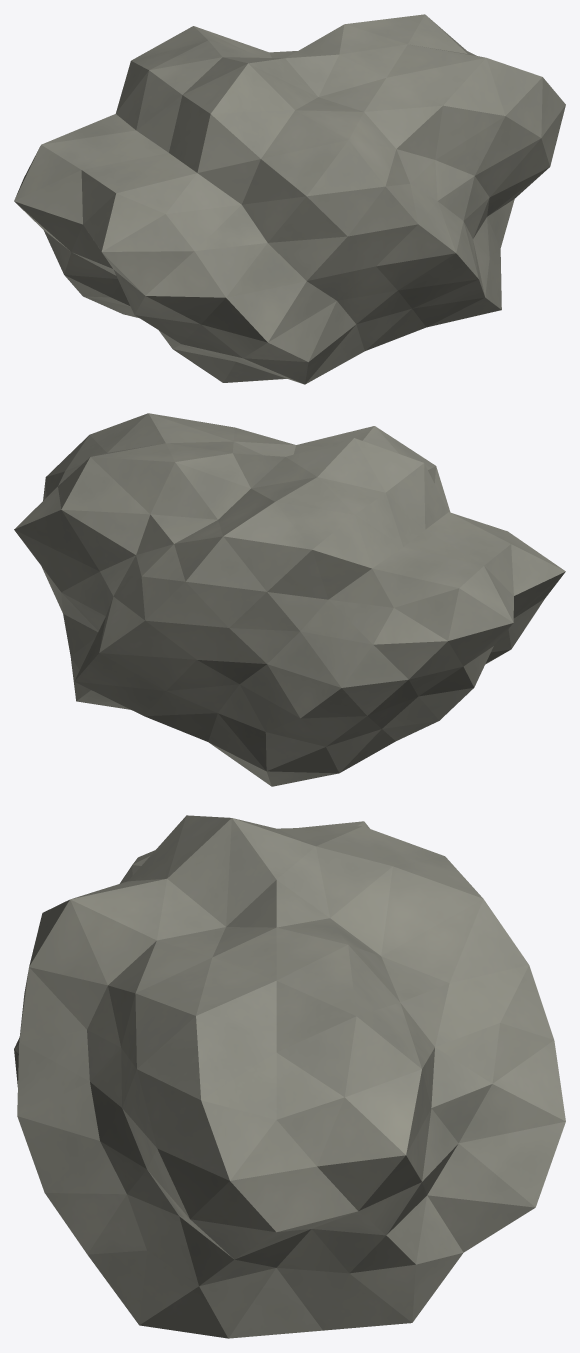
File: GF2_Boulder_C.fbx
3 views of the same model, one above another, from view 1: azimuth 30°, elevation 25°; view 2: azimuth 150°, elevation 25°; view 3: azimuth 270°, elevation 25° (orthographic). The views are drawn at different scales.
Parts seen in each view (by area): view 1: GF2_Boulder_C.001; view 2: GF2_Boulder_C.001; view 3: GF2_Boulder_C.001.
Boxes of the visible parts, x1,y1,x2,y2 form: GF2_Boulder_C.001: [14, 14, 565, 384]; GF2_Boulder_C.001: [14, 413, 565, 786]; GF2_Boulder_C.001: [14, 815, 565, 1338].
Size of the model in its own units: 9.73 by 5.98 by 6.77.
1 material, 1 textured.
